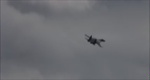maybay_muctieu: (86, 32, 105, 48)
